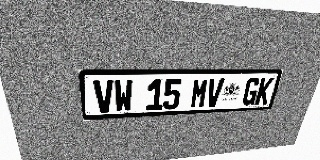1: (146, 79, 165, 111)
5: (163, 79, 182, 110)
G: (241, 78, 261, 105)
K: (254, 77, 274, 105)
M: (190, 78, 209, 108)
V: (93, 80, 114, 113), (205, 78, 225, 107)
W: (114, 80, 133, 112)
